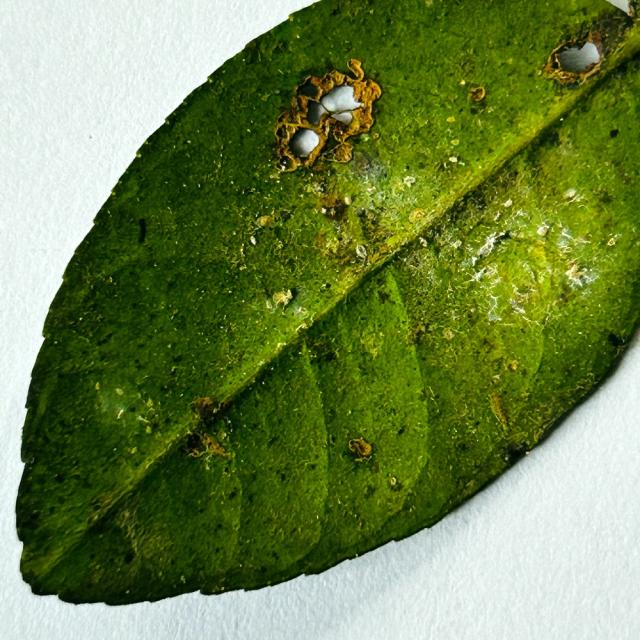Bacterial_Blight: (313, 191, 392, 266), (182, 394, 236, 459), (243, 209, 290, 252), (345, 435, 385, 478), (353, 208, 385, 246), (364, 236, 403, 267), (464, 79, 493, 115), (359, 327, 389, 359), (320, 195, 351, 223), (305, 335, 333, 360), (484, 230, 514, 253), (467, 85, 489, 113), (435, 154, 465, 173), (513, 285, 538, 307), (552, 282, 575, 305), (458, 52, 479, 77), (214, 396, 236, 419), (185, 432, 204, 456), (542, 129, 562, 148), (408, 323, 426, 344), (244, 45, 262, 65), (224, 350, 244, 367), (357, 207, 373, 223), (273, 40, 289, 55), (599, 190, 615, 205), (314, 232, 328, 248), (388, 476, 402, 492), (469, 103, 486, 116), (377, 290, 391, 304), (278, 210, 293, 223), (543, 225, 554, 238), (330, 7, 341, 17), (397, 426, 406, 436)
Lemon: (13, 0, 639, 611)
